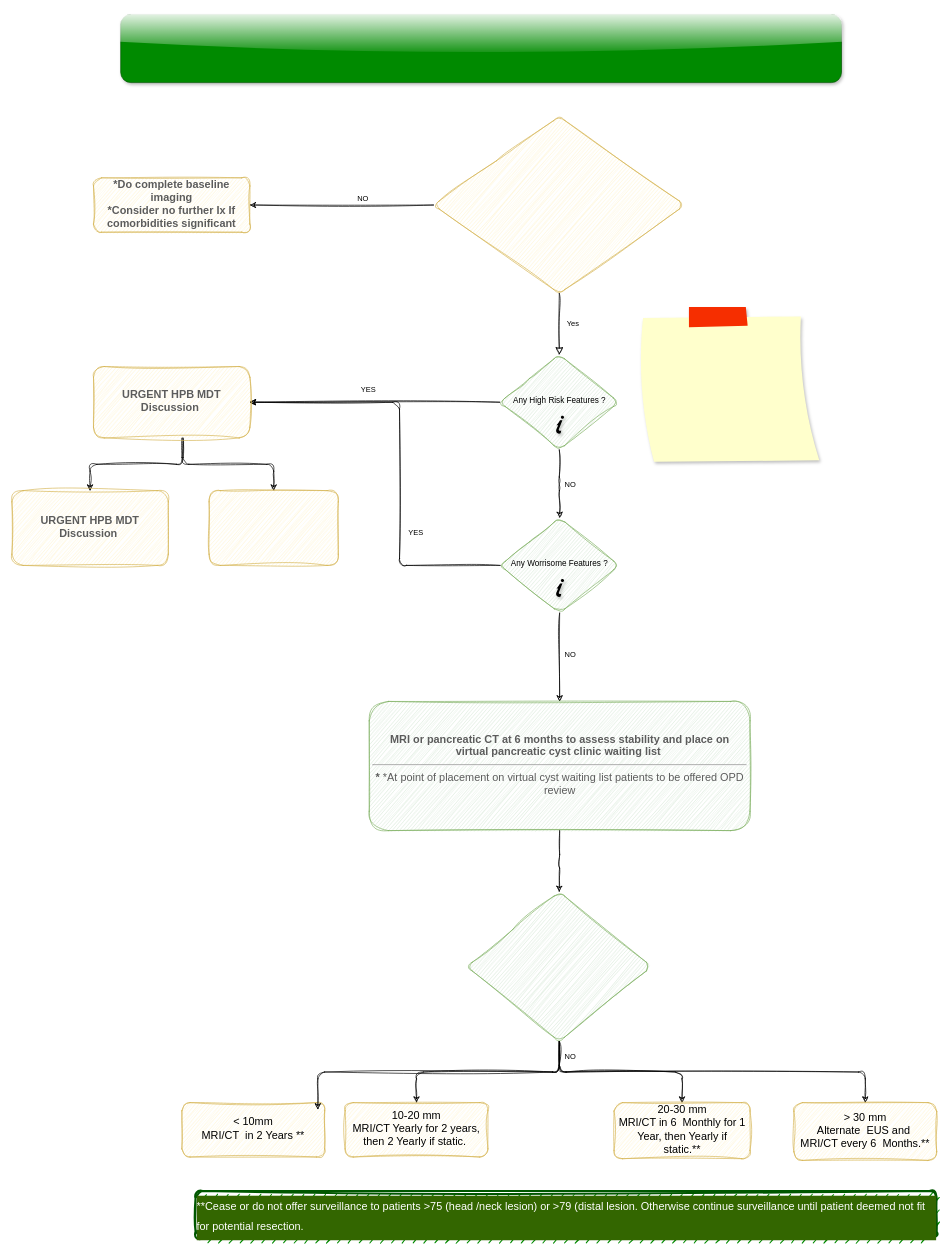
The diagram is 949 pixels wide and 1253 high, and some of its shapes have lost their labels. Each missing label, with the centre of its shape:
"Cyst growth or other worrisome feature at 6 /12?" goes at [559,966].
"EUS + Aspiration +/- Contrast : Then rediscuss in HPB MDT" goes at [273,527].
"Has patient had optimum imaging (CT/MRI/MRCP)? Is patient safe for resetcion ?" goes at [559,204].
"HIGH RISK Features Jaundice Main PD >10mm Enhancing nodule >5mm within cyst" goes at [729,386].
"Pancreatic Cyst Pathways" goes at [481,49].
